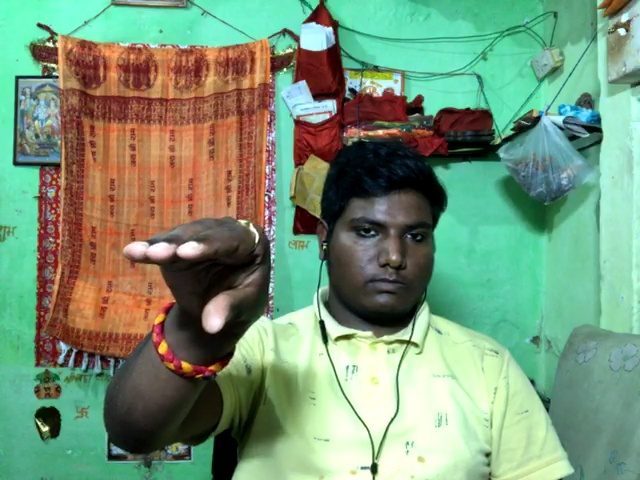No: (93, 210, 285, 363)
